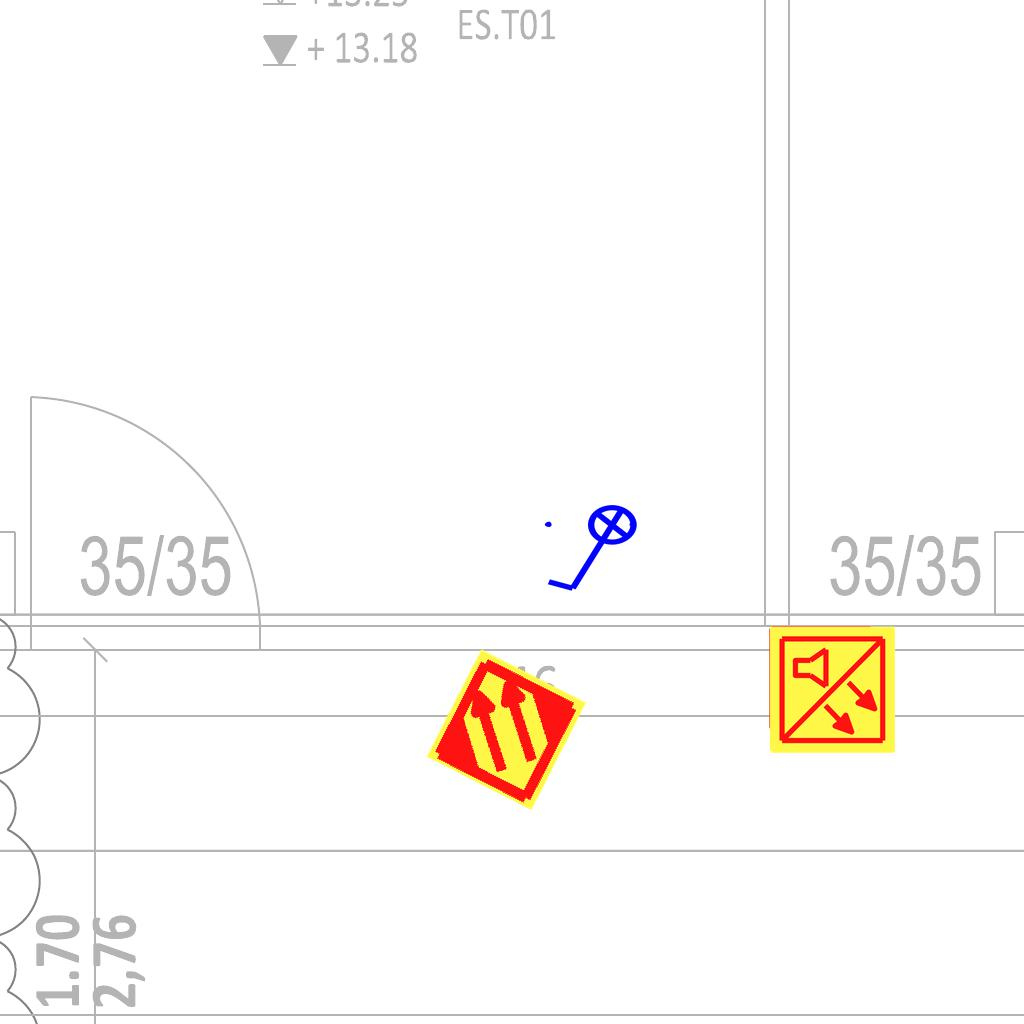ASR_Ansaugrauchmelder: (422, 645, 591, 814)
Ausschalter_beleuchtet: (539, 503, 651, 599)
OKW_Multisensormelder_(Kombination_optischer_Rauch-Kahlenmonoxid_Waerme-Melder): (766, 624, 898, 756)
